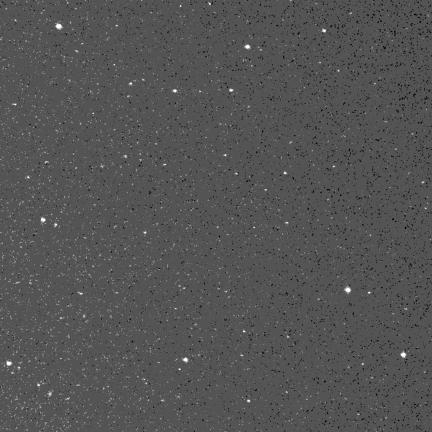blob: (345, 287, 351, 293), (56, 23, 62, 29), (401, 352, 406, 358), (183, 357, 188, 363), (244, 45, 251, 49), (7, 361, 12, 366), (41, 218, 45, 223), (173, 89, 177, 93), (284, 172, 288, 176), (322, 29, 326, 32), (54, 223, 57, 227), (247, 400, 251, 403), (230, 89, 233, 92)
